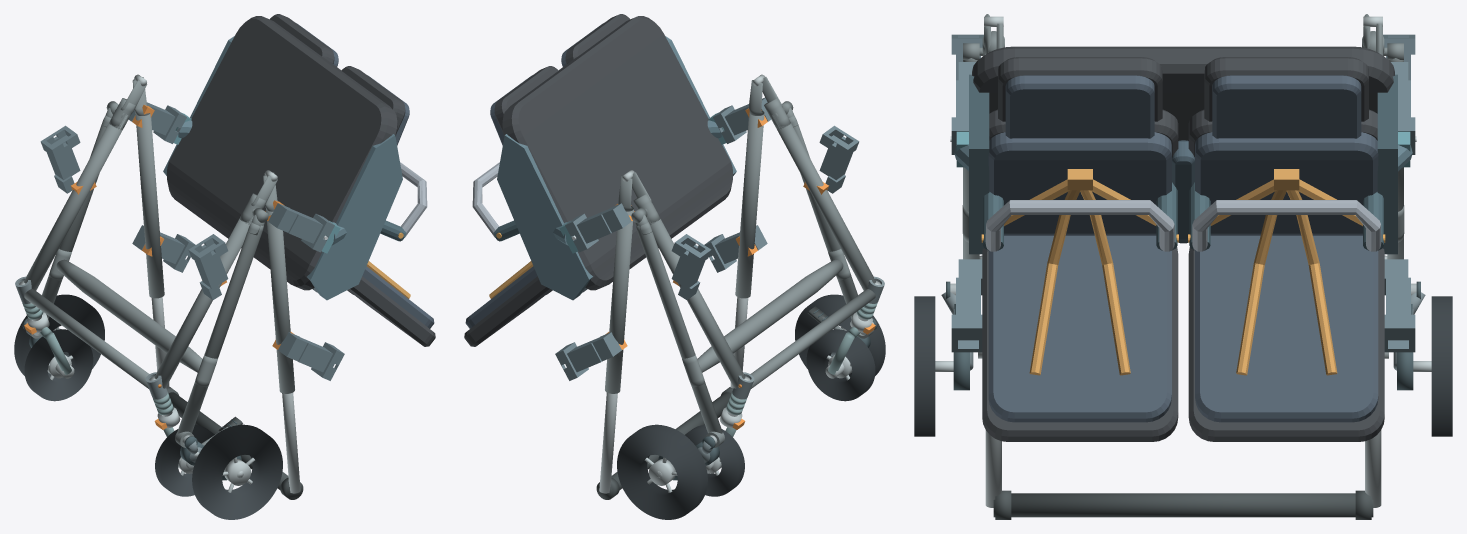
File: S10_w650_state3_wheel_S.glb
The picture shows the model from 3 angles, left to right: view 1: azimuth 30°, elevation 25°; view 2: azimuth 150°, elevation 25°; view 3: azimuth 270°, elevation 25°; orthographic projection. The views are drawn at different scales.
Visible parts, largest first — view 1: S10_Cabin, RL_tire.008, FR_tire.008, V46_rearbar.009, main_lower_1.009, main_upper_1.009, V46_rear_leg_-1.009, main_upper_-1.009, main_lower_-1.009, front_fixed_round_tube.008, RR_tire.008, FL_tire.008 (+12 smaller); view 2: S10_Cabin, RR_tire.008, FL_tire.008, V46_rearbar.009, main_lower_-1.009, main_upper_-1.009, V46_rear_leg_1.009, main_upper_1.009, main_lower_1.009, front_fixed_round_tube.008, FR_tire.008, RL_tire.008 (+12 smaller); view 3: S10_Cabin, round_handle.008, RL_tire.008, RR_tire.008, Universal_Cabin_Receiver_H_1, Universal_Cabin_Receiver_H_-1, Universal_Cabin_Receiver_M_1, Universal_Cabin_Receiver_M_-1, handle_slider_1.008, handle_slider_-1.008, S10_Cabin_Mount_M, RL_brake_backplate.008 (+1 smaller).
Boxes of the visible parts, left/top/right/bottom form: S10_Cabin: left=163, top=14, right=435, bottom=346; RL_tire.008: left=192, top=424, right=282, bottom=519; FR_tire.008: left=24, top=329, right=93, bottom=401; V46_rearbar.009: left=56, top=259, right=202, bottom=372; main_lower_1.009: left=24, top=114, right=128, bottom=290; main_upper_1.009: left=135, top=113, right=164, bottom=298; V46_rear_leg_-1.009: left=177, top=222, right=263, bottom=433; main_upper_-1.009: left=266, top=209, right=294, bottom=393; main_lower_-1.009: left=154, top=217, right=252, bottom=388; front_fixed_round_tube.008: left=24, top=289, right=149, bottom=388; RR_tire.008: left=14, top=294, right=104, bottom=377; FL_tire.008: left=155, top=425, right=214, bottom=496; S10_Cabin: left=464, top=14, right=736, bottom=346; RR_tire.008: left=617, top=424, right=707, bottom=519; FL_tire.008: left=806, top=329, right=875, bottom=401; V46_rearbar.009: left=697, top=259, right=843, bottom=372; main_lower_-1.009: left=771, top=114, right=875, bottom=290; main_upper_-1.009: left=735, top=112, right=764, bottom=298; V46_rear_leg_1.009: left=636, top=222, right=722, bottom=433; main_upper_1.009: left=605, top=209, right=633, bottom=393; main_lower_1.009: left=647, top=217, right=745, bottom=388; front_fixed_round_tube.008: left=750, top=289, right=875, bottom=388; FR_tire.008: left=685, top=425, right=744, bottom=496; RL_tire.008: left=795, top=294, right=885, bottom=377; S10_Cabin: left=969, top=46, right=1397, bottom=441; round_handle.008: left=993, top=493, right=1373, bottom=517; RL_tire.008: left=914, top=296, right=935, bottom=436; RR_tire.008: left=1431, top=296, right=1452, bottom=436; Universal_Cabin_Receiver_H_1: left=1384, top=259, right=1415, bottom=352; Universal_Cabin_Receiver_H_-1: left=951, top=259, right=982, bottom=352; Universal_Cabin_Receiver_M_1: left=1391, top=62, right=1415, bottom=154; Universal_Cabin_Receiver_M_-1: left=951, top=62, right=975, bottom=154; handle_slider_1.008: left=1365, top=430, right=1381, bottom=507; handle_slider_-1.008: left=985, top=430, right=1001, bottom=507; S10_Cabin_Mount_M: left=950, top=131, right=1416, bottom=171; RL_brake_backplate.008: left=953, top=352, right=969, bottom=390.
Size of the model in its own units: 0.6968 by 0.8436 by 0.766.
